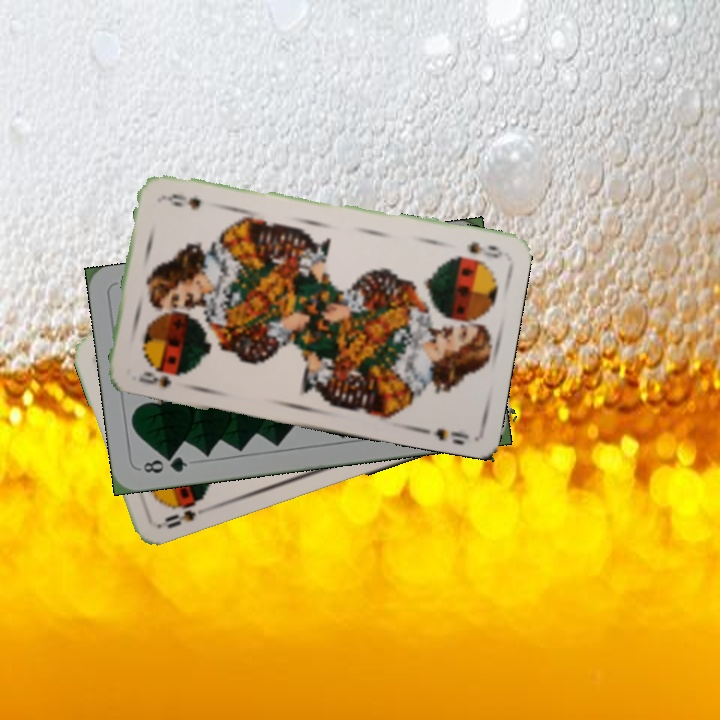G8: (139, 451, 190, 476)
SO: (156, 494, 208, 531), (134, 366, 182, 391), (463, 237, 506, 261)
